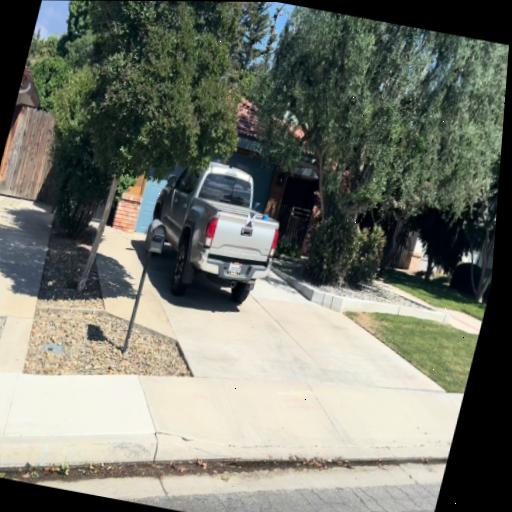target1: (245, 210, 257, 229)
